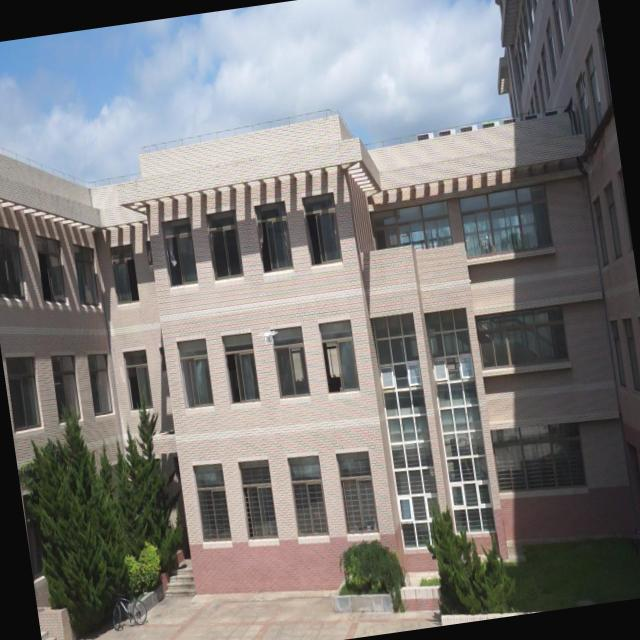drone: (259, 328, 278, 344)
